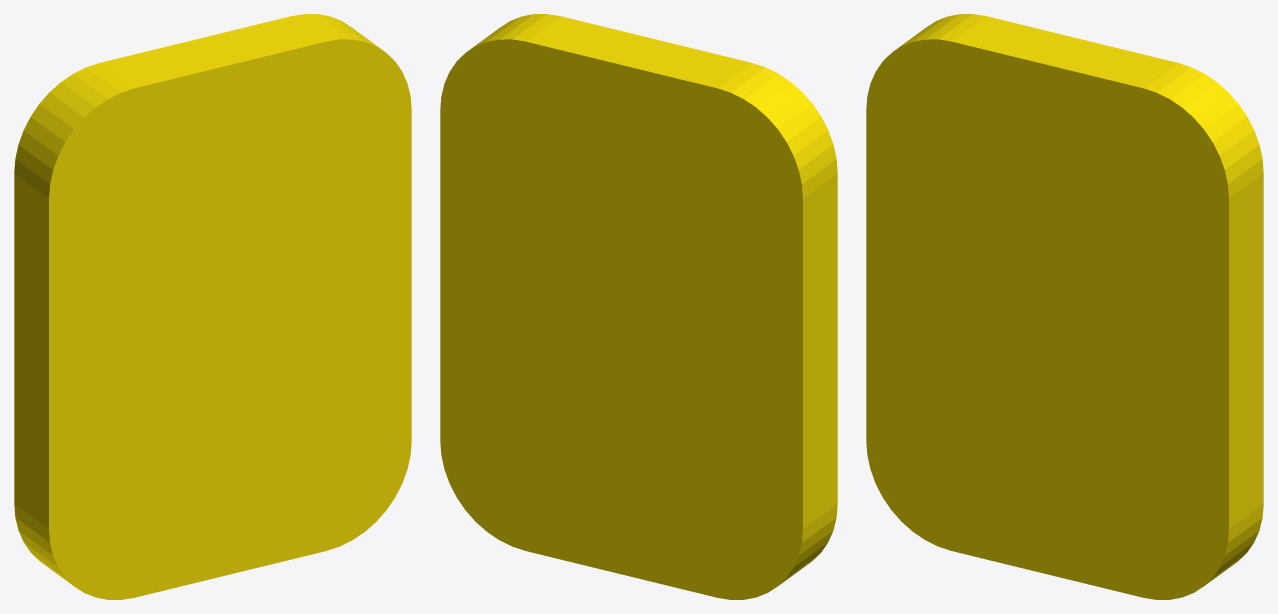
Rendered from Option.fbx.
3 renders of one model, left to right at view 1: azimuth 30°, elevation 25°; view 2: azimuth 150°, elevation 25°; view 3: azimuth 330°, elevation 25°, orthographic.
Visible parts, largest first — view 1: Cube.000; view 2: Cube.000; view 3: Cube.000.
Part boxes in pixels (x1=…): Cube.000: x1=14, y1=14, x2=411, y2=599; Cube.000: x1=440, y1=14, x2=837, y2=599; Cube.000: x1=866, y1=14, x2=1263, y2=599.
Size of the model in its own units: 38.3 by 51.4 by 6.36.
